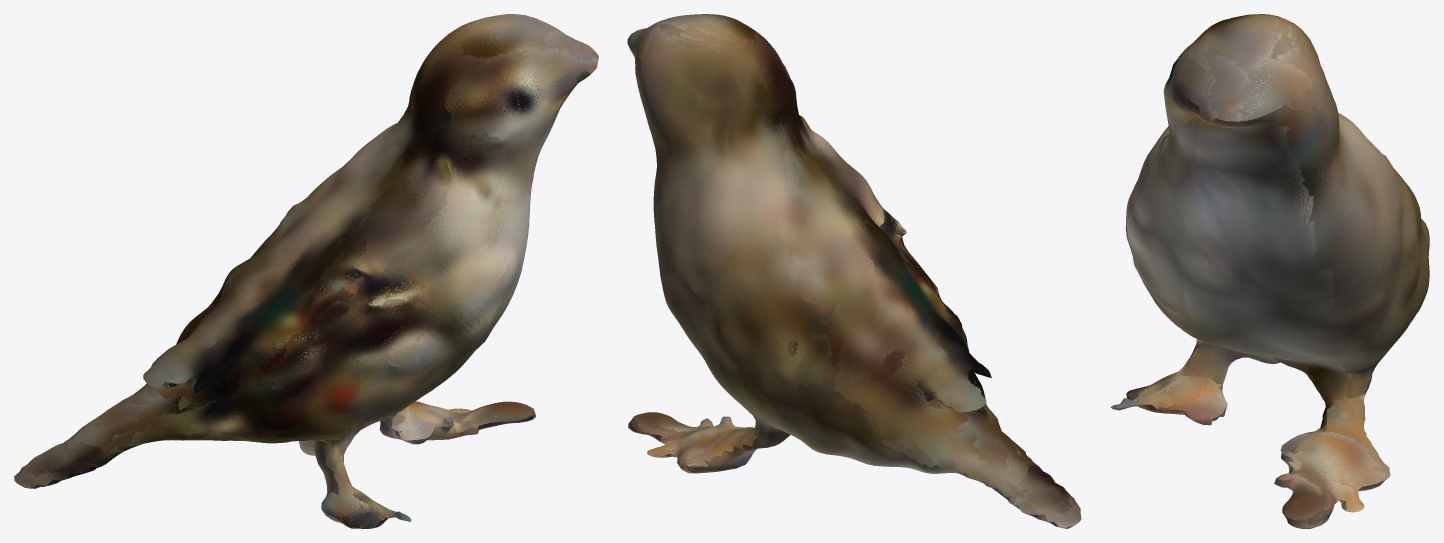
Rendered from image-3 copy_rgba_mesh.obj.
3 renders of one model, left to right at view 1: azimuth 30°, elevation 25°; view 2: azimuth 150°, elevation 25°; view 3: azimuth 270°, elevation 25°, orthographic. The views are drawn at different scales.
Bounding box in the file's own units: 1.19 × 0.9385 × 0.5555.
Materials: 1 (1 with a texture image).
